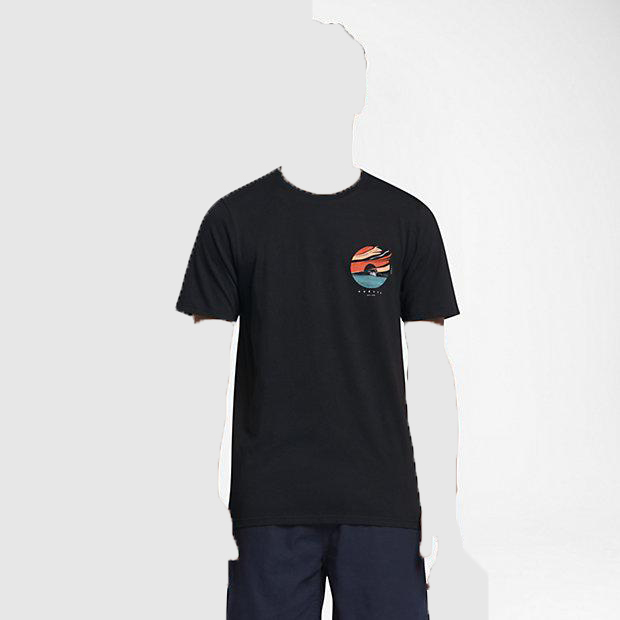teeshirt: (171, 163, 470, 532)
